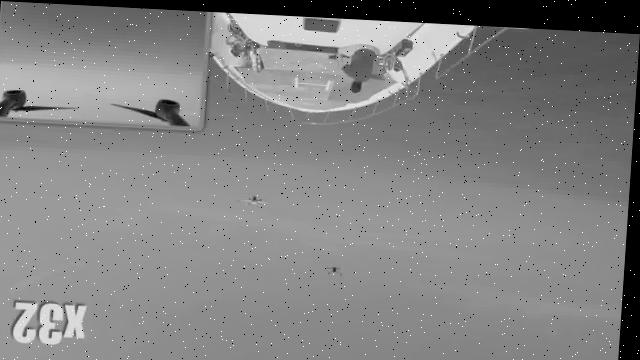drone: (243, 189, 273, 211), (321, 255, 353, 275)
